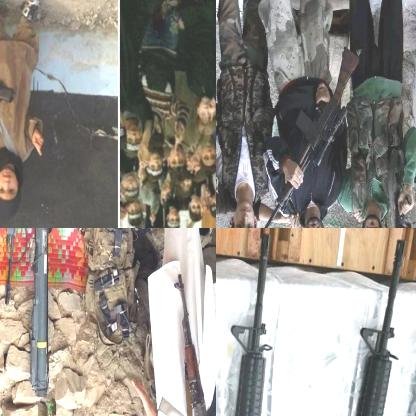pistol: (0, 83, 16, 128)
rifle: (242, 43, 360, 227), (322, 239, 411, 415), (216, 231, 291, 415), (172, 269, 215, 415), (388, 192, 414, 227)
